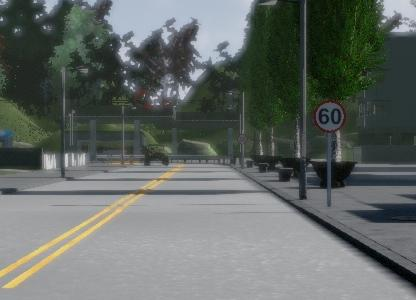Speed_60: (313, 97, 346, 135)
